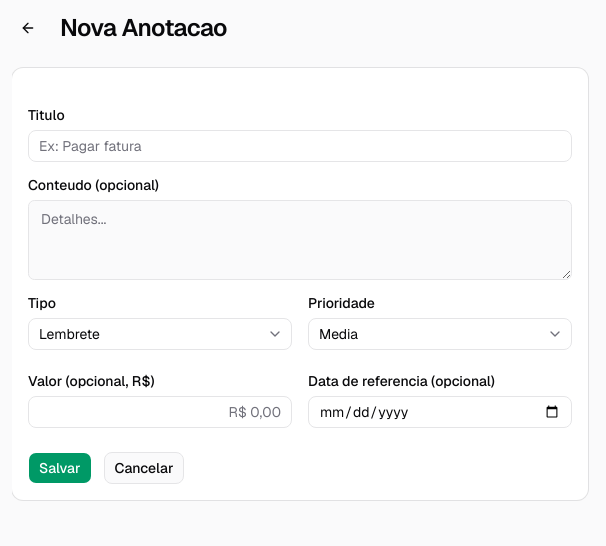
Test case: NovaAnotacao › shows validation error when titulo is empty
Click the button "Salvar": (60, 468) [28,452,92,484]
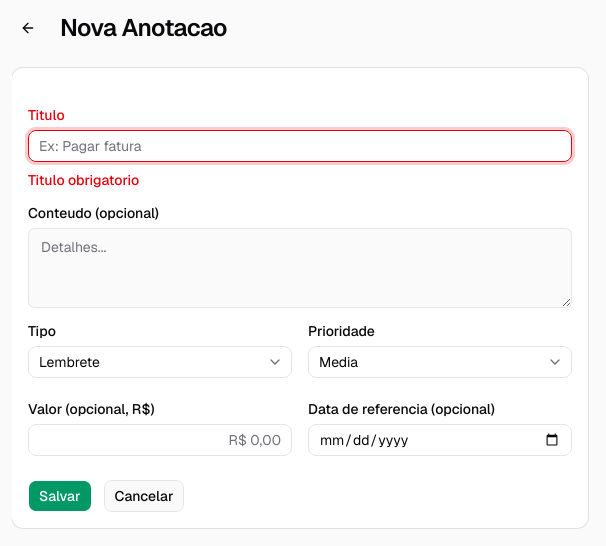
Expected: the text "Titulo obrigatorio" is shown, [28,171,139,189]
